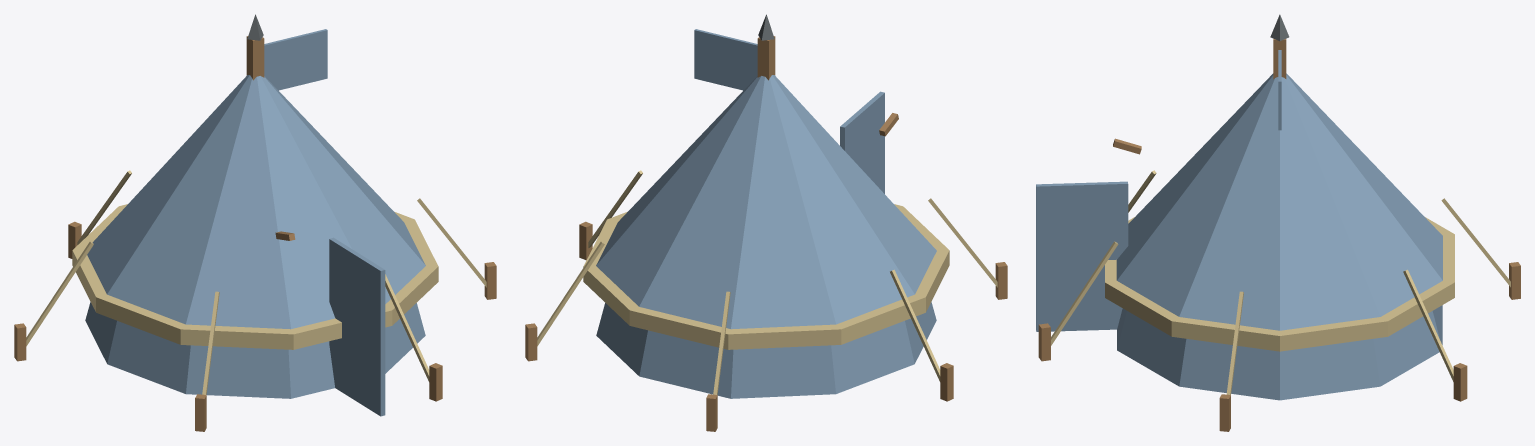
Rendered from medieval-siege-and-castle-defence-bell-tent-open-88cc714a.glb.
The picture shows the model from 3 angles, left to right: view 1: azimuth 30°, elevation 25°; view 2: azimuth 150°, elevation 25°; view 3: azimuth 270°, elevation 25°; orthographic projection.
Parts seen in each view (by area): view 1: bell-tent-open, tent-flap; view 2: bell-tent-open, tent-flap; view 3: bell-tent-open, tent-flap.
Part boxes in pixels (x1,y1,x2,y2): bell-tent-open: (14, 14, 496, 431); tent-flap: (329, 237, 385, 416); bell-tent-open: (525, 14, 1007, 431); tent-flap: (840, 91, 884, 193); bell-tent-open: (1038, 14, 1520, 431); tent-flap: (1036, 181, 1128, 331).
Size of the model in its own units: 4.59 by 3.24 by 4.53.
